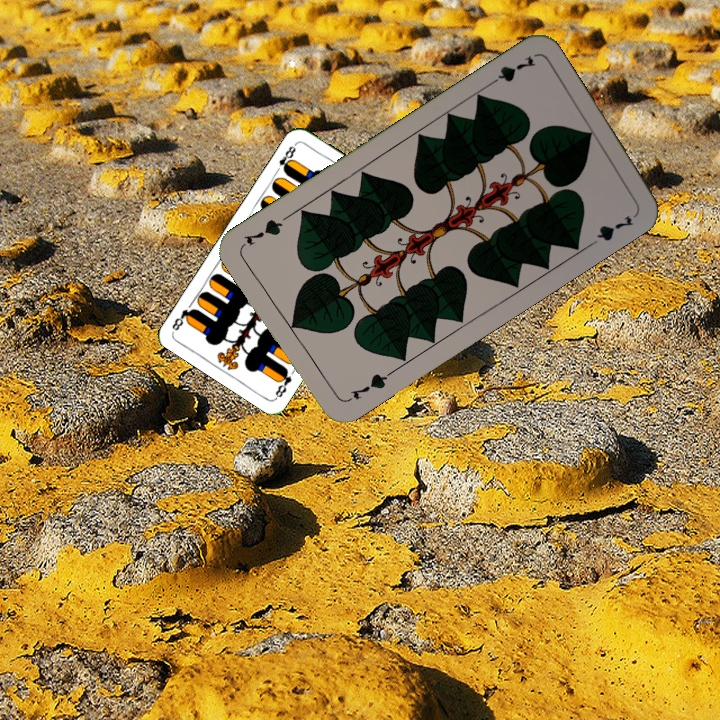E8: (271, 140, 299, 176), (271, 364, 294, 401)
G7: (483, 51, 539, 90), (341, 367, 394, 405)
